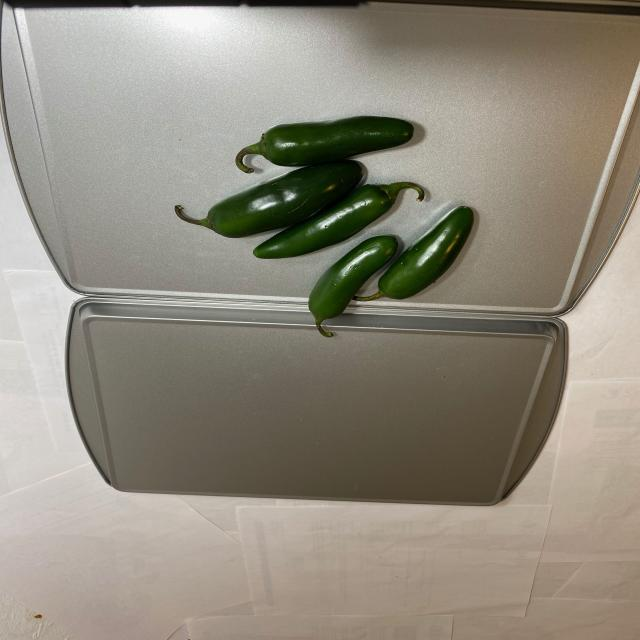chilli: (186, 99, 472, 337)
